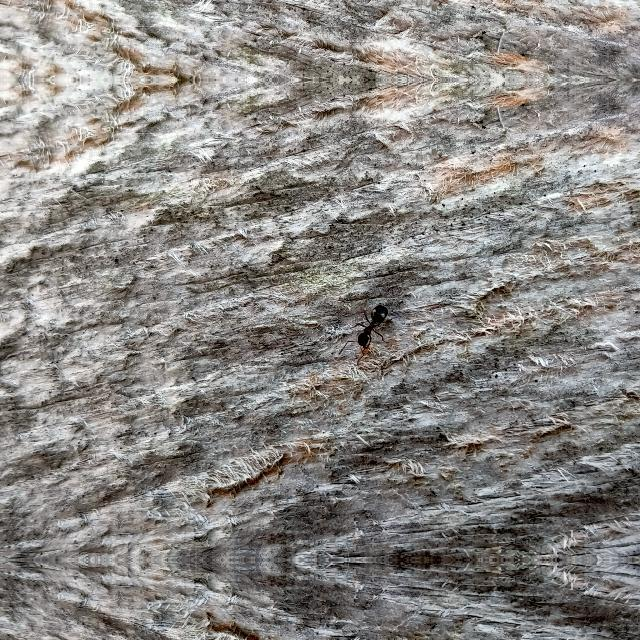Dolichoderus: (340, 298, 400, 354)
